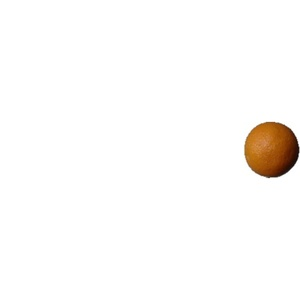laranja: (243, 120, 300, 178)
